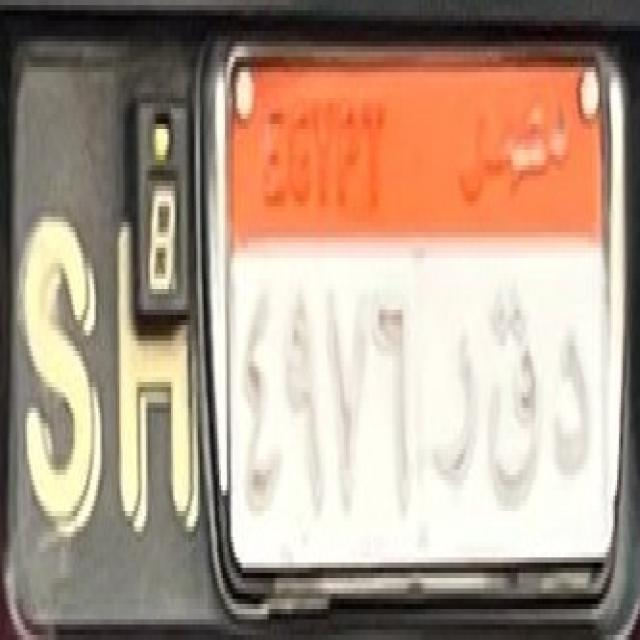4: (236, 276, 286, 520)
6: (374, 295, 410, 522)
7: (324, 292, 369, 522)
9: (281, 288, 327, 526)
R: (428, 322, 482, 507)
Taa: (482, 282, 546, 514)
daal: (547, 326, 593, 494)
